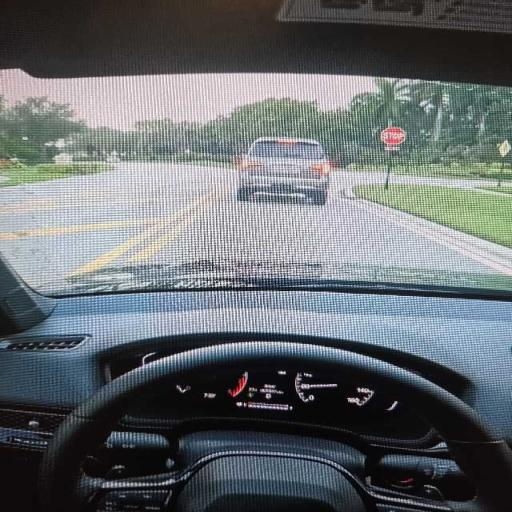car: (0, 0, 511, 511), (237, 137, 331, 205)
lane: (0, 164, 510, 289), (153, 173, 499, 272), (0, 164, 225, 289)
